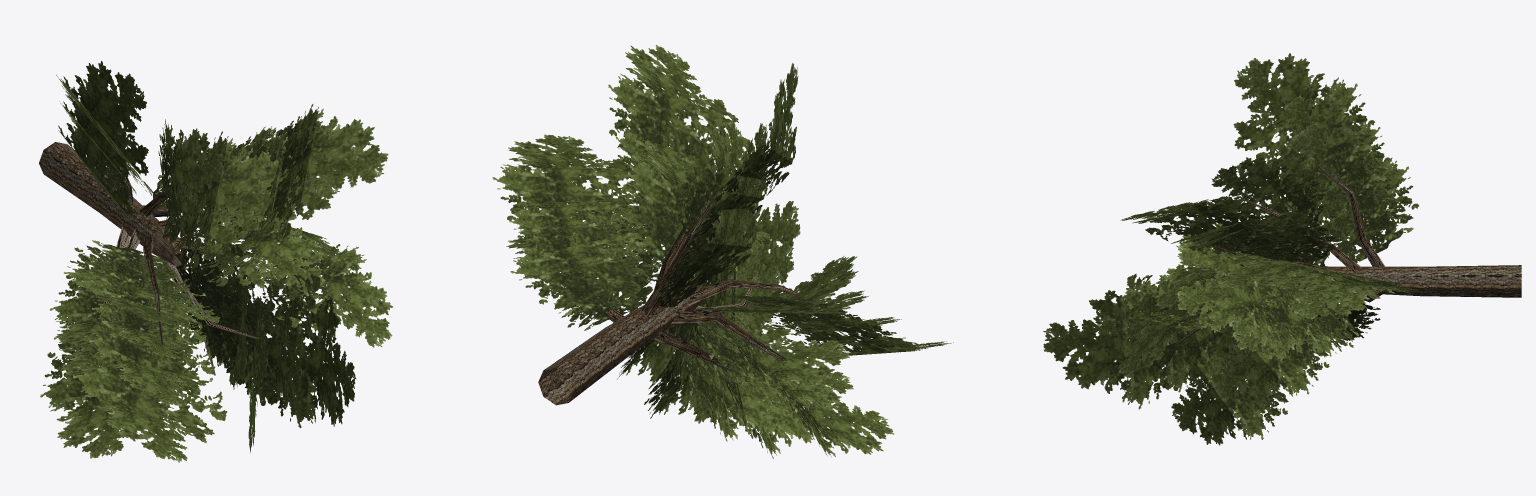
The model's file is acacia_bb1.obj.
The picture shows the model from 3 angles, left to right: view 1: azimuth 30°, elevation 25°; view 2: azimuth 150°, elevation 25°; view 3: azimuth 270°, elevation 25°; orthographic projection. The views are drawn at different scales.
Parts seen in each view (by area): view 1: plant_pmat3, plant_pmat1, plant_pmat2; view 2: plant_pmat3, plant_pmat1, plant_pmat2; view 3: plant_pmat3, plant_pmat1, plant_pmat2.
Part boxes in pixels (bbox=[...]): plant_pmat3: bbox=[40, 61, 393, 462]; plant_pmat1: bbox=[39, 142, 183, 266]; plant_pmat2: bbox=[103, 144, 305, 375]; plant_pmat3: bbox=[492, 45, 953, 458]; plant_pmat1: bbox=[538, 283, 707, 405]; plant_pmat2: bbox=[584, 185, 824, 371]; plant_pmat3: bbox=[1043, 53, 1422, 445]; plant_pmat1: bbox=[1303, 265, 1521, 297]; plant_pmat2: bbox=[1175, 164, 1391, 345].
Bounding box in the file's own units: 7.43 × 7.81 × 8.3.
